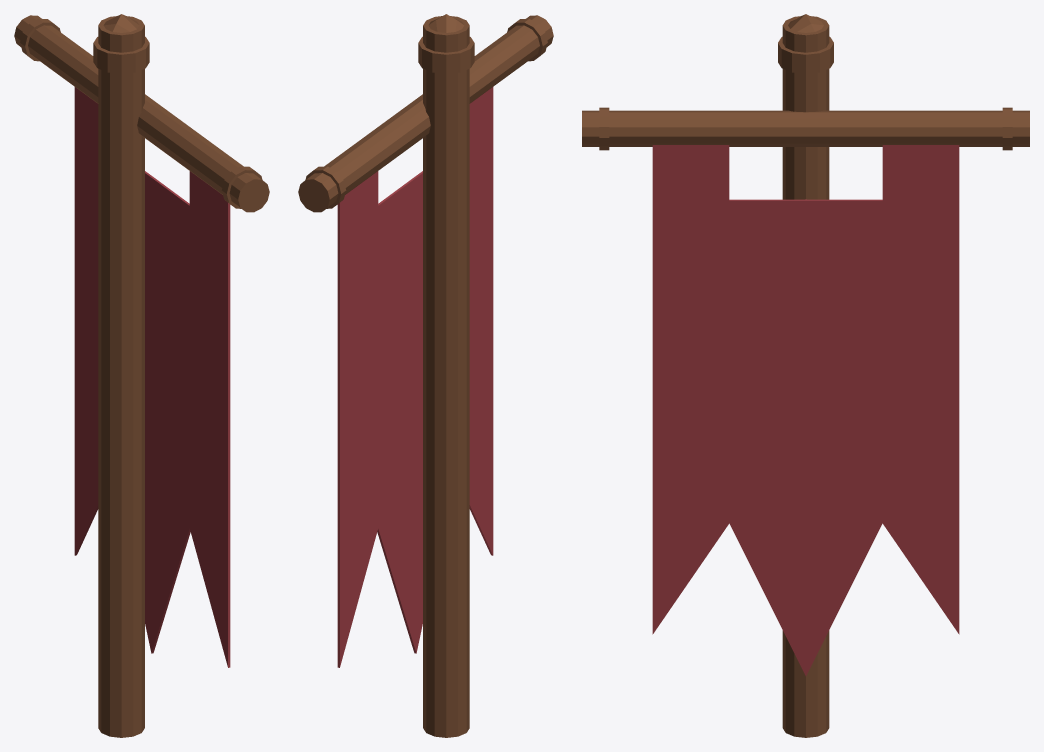
The model's file is sztandar.fbx.
The picture shows the model from 3 angles, left to right: view 1: azimuth 30°, elevation 25°; view 2: azimuth 150°, elevation 25°; view 3: azimuth 270°, elevation 25°; orthographic projection.
Visible parts, largest first — view 1: Plane; view 2: Plane; view 3: Plane.
Part boxes in pixels (x1=…): Plane: x1=14, y1=14, x2=269, y2=737; Plane: x1=298, y1=14, x2=553, y2=737; Plane: x1=582, y1=14, x2=1029, y2=737.
Bounding box in the file's own units: 108 × 1162 × 661.
